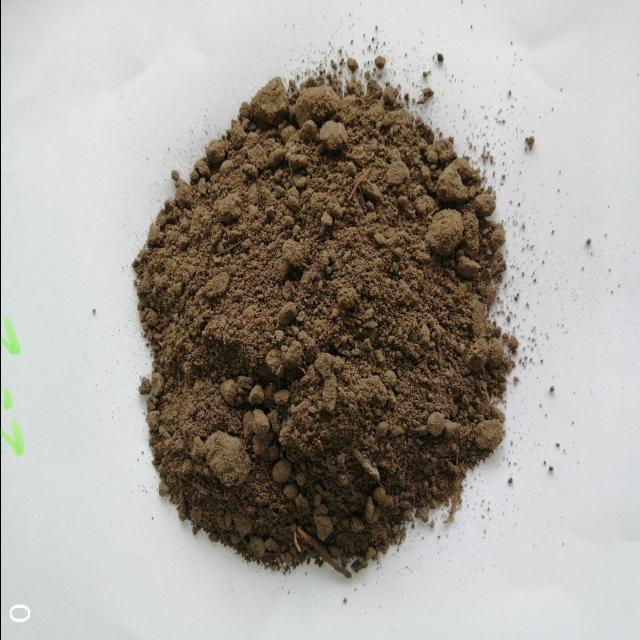soil: (170, 155, 447, 497)
